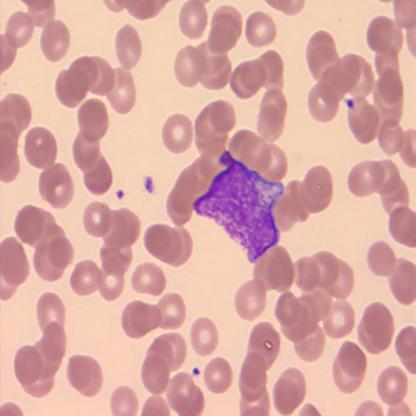Myelocyte: (192, 149, 286, 260)
